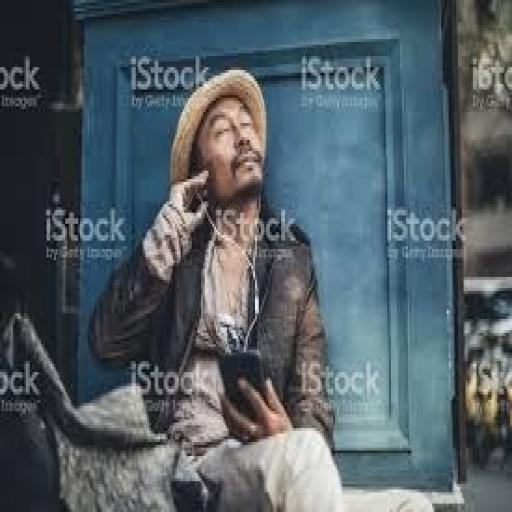listening_to_music: (86, 64, 344, 510)
